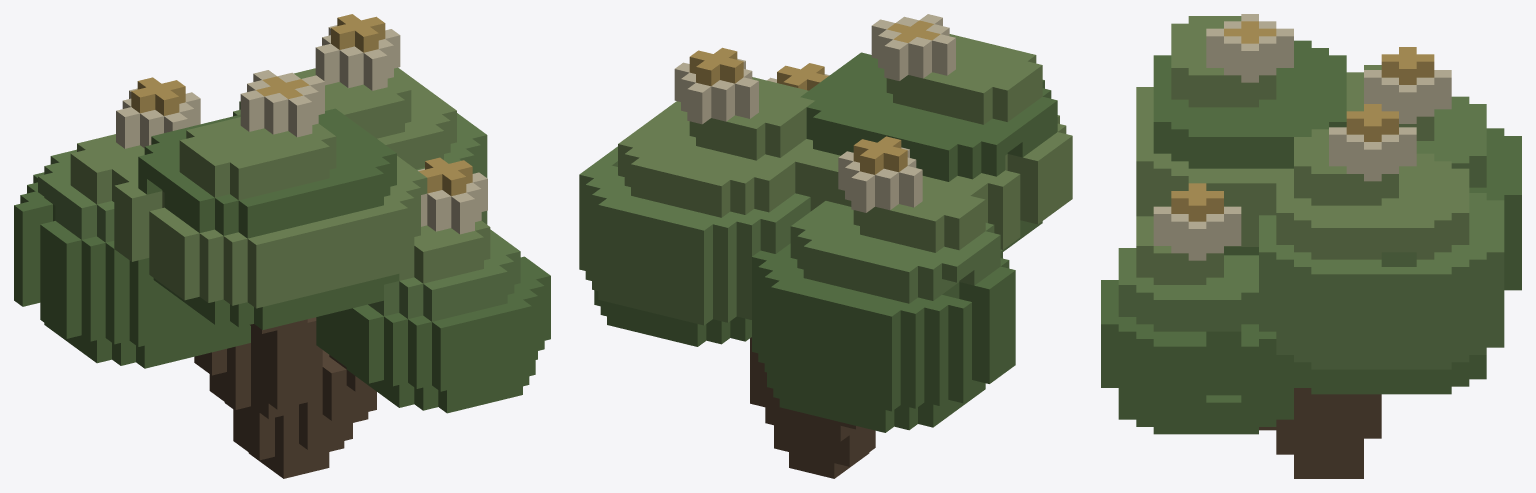
Rendered from blueberry_spring.glb.
3 renders of one model, left to right at view 1: azimuth 30°, elevation 25°; view 2: azimuth 150°, elevation 25°; view 3: azimuth 270°, elevation 25°, orthographic.
Visible parts, largest first — view 1: VoxelVisual; view 2: VoxelVisual; view 3: VoxelVisual.
Boxes of the visible parts, bbox=[...] form: VoxelVisual: bbox=[14, 14, 550, 478]; VoxelVisual: bbox=[579, 14, 1072, 478]; VoxelVisual: bbox=[1101, 14, 1521, 478].
Size of what is drawn, in the model's own units: 1.62 by 1.62 by 1.5.
